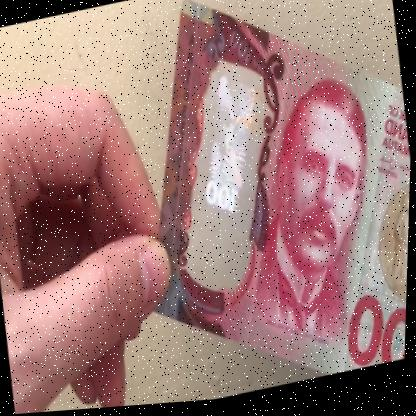100F: (177, 69, 283, 268)
